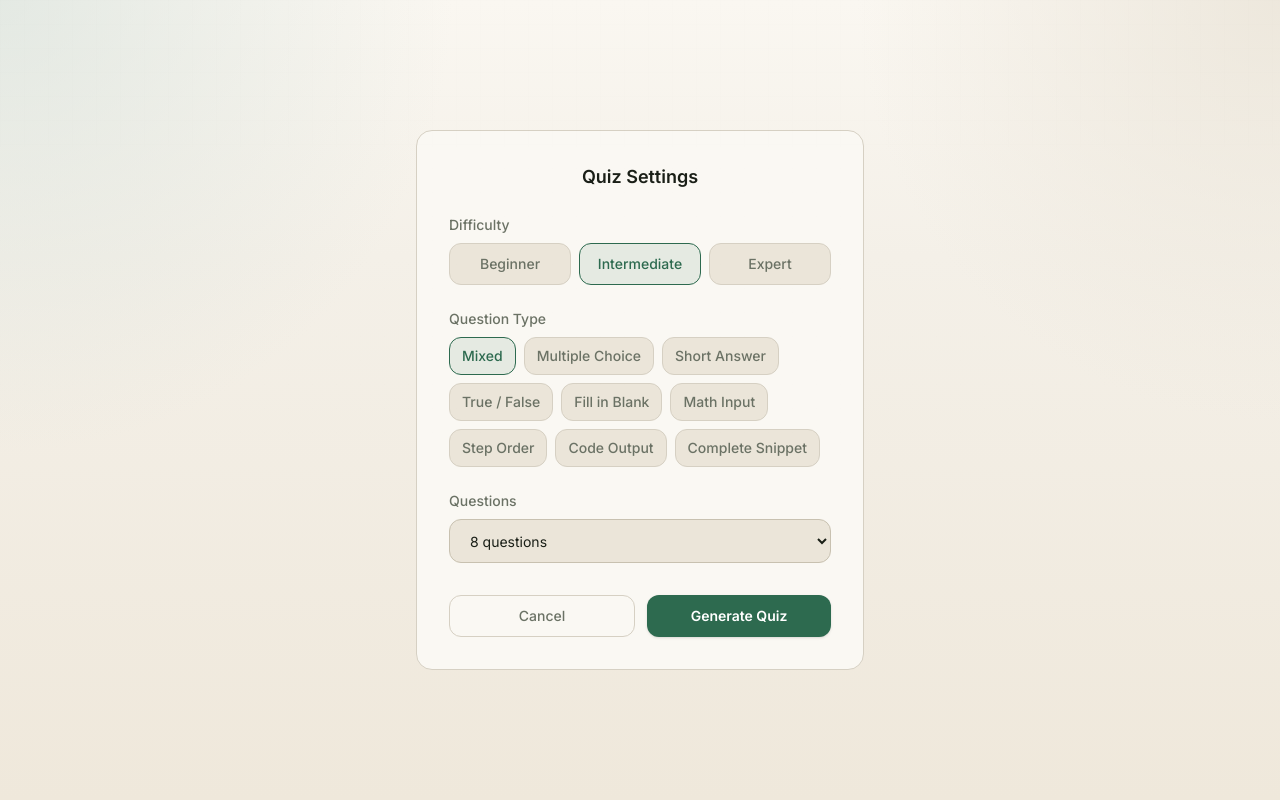
Test: interactive quiz configuration › submits the selected interactive question type and renders the matching input
This screenshot has width=1280, height=800.
What coordinates should you click on to do the following:
click the button "Math Input"
I would click on:
 (719, 402)
Its box is [670,383,768,421].
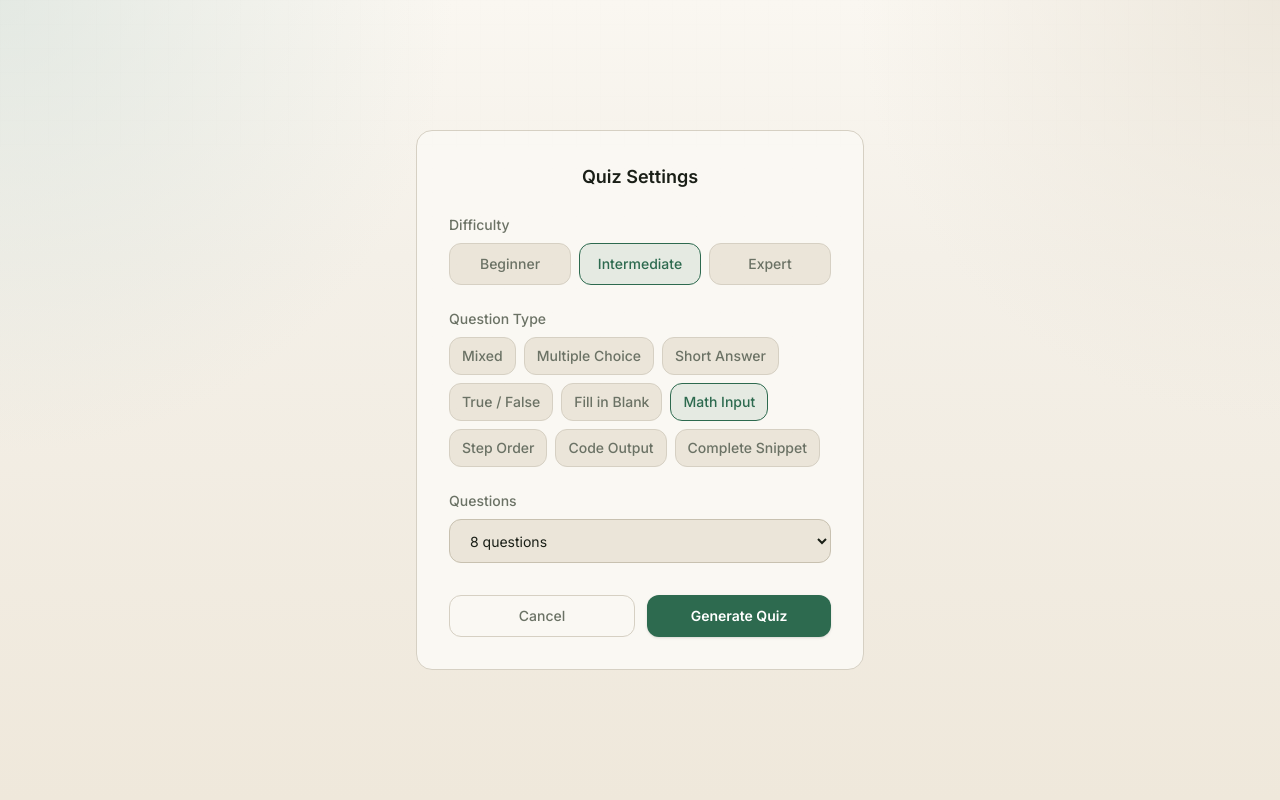
What coordinates should you click on to do the following:
click the button "Generate Quiz"
I would click on:
 (739, 616)
Its box is [647,595,831,637].
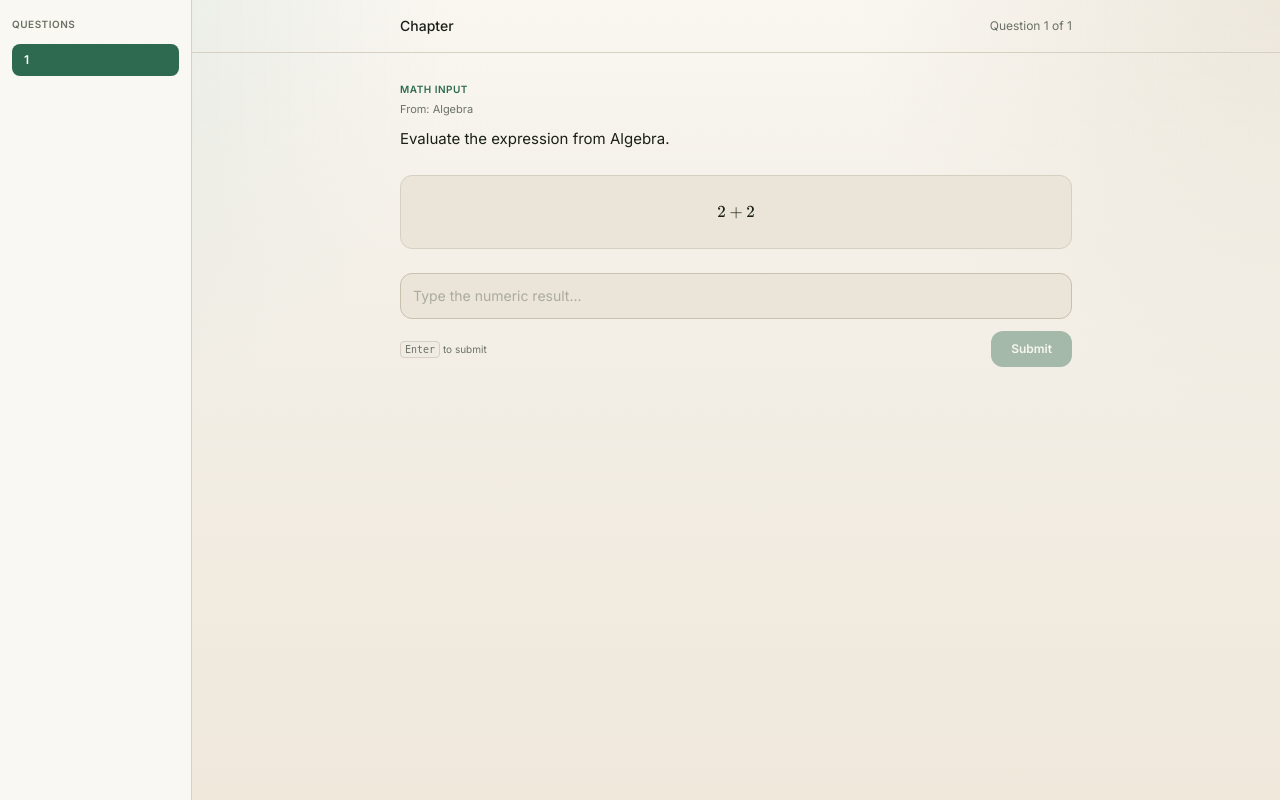
Result: the field with placeholder "Type the numeric result..." is shown at [400,273,1072,319]
